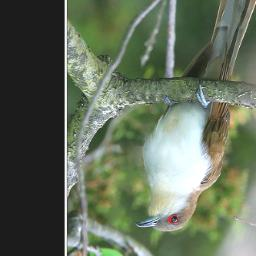Cuckoo: (134, 0, 256, 233)
